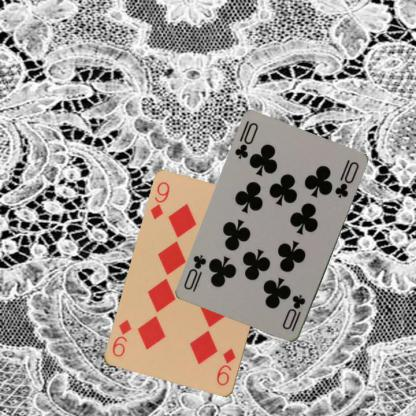10c: (232, 118, 260, 160), (280, 292, 307, 334)
9d: (148, 179, 171, 221), (214, 346, 237, 387)
